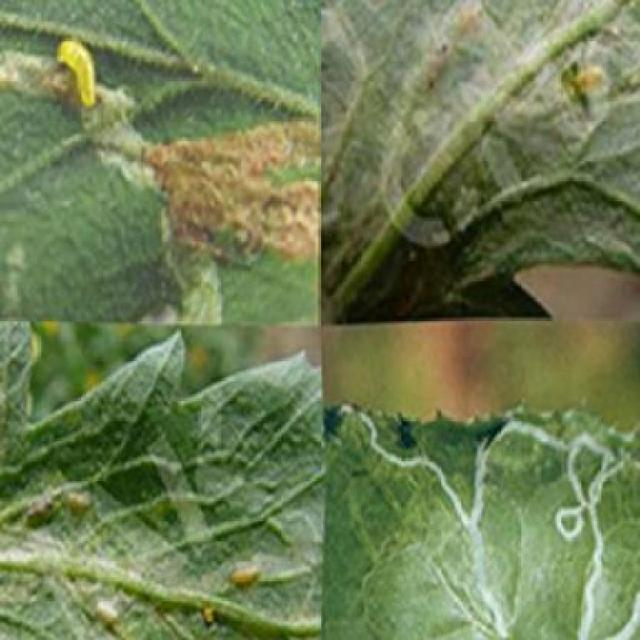whorl-maggot: (54, 27, 115, 115)
